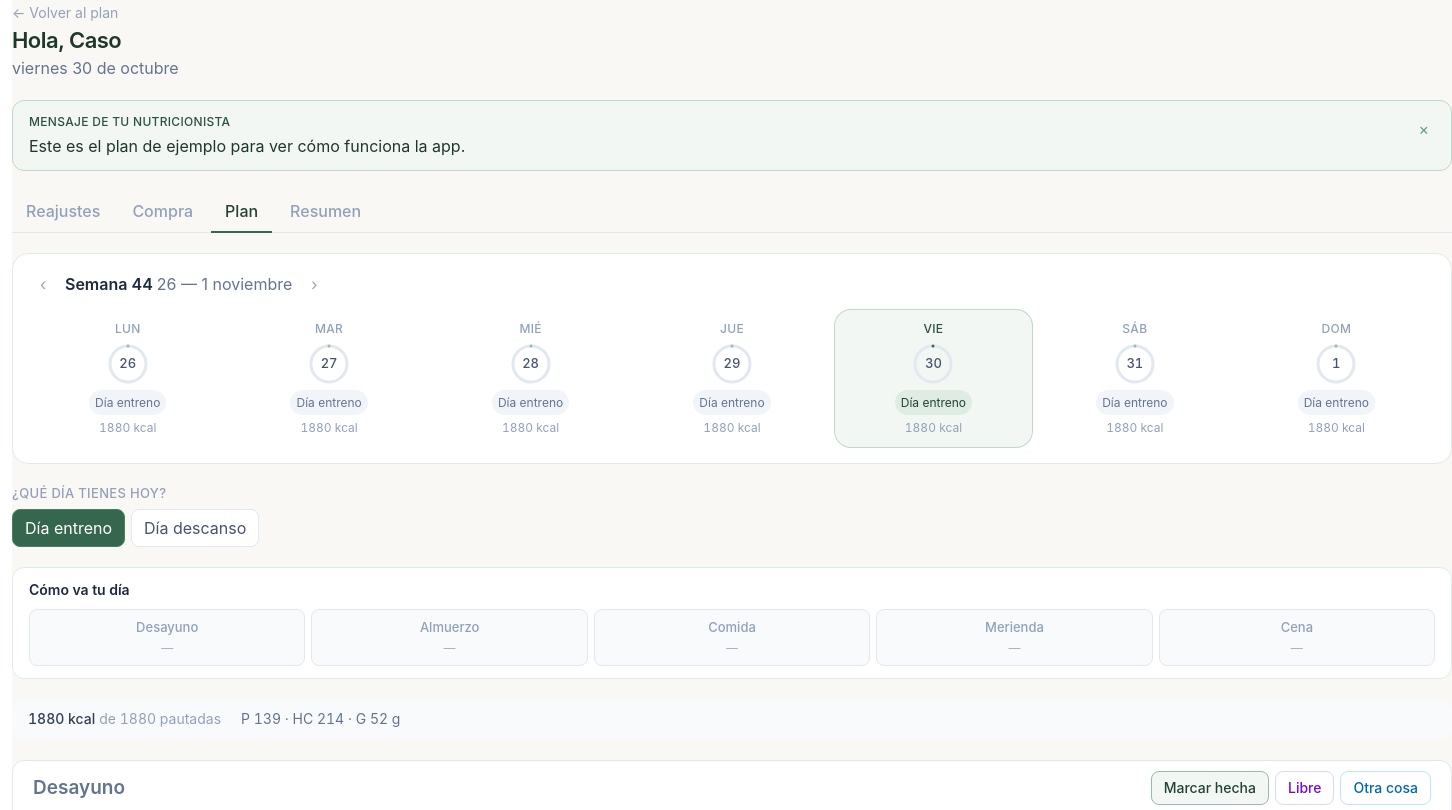
Test: Las cinco pestañas › en reajustes se deja puesta la semana
The width and height of the screenshot is (1452, 810).
What coordinates should you click on to do the following:
click the button "Reajustes"
I would click on:
 (63, 212)
Its box is [12, 191, 114, 233].
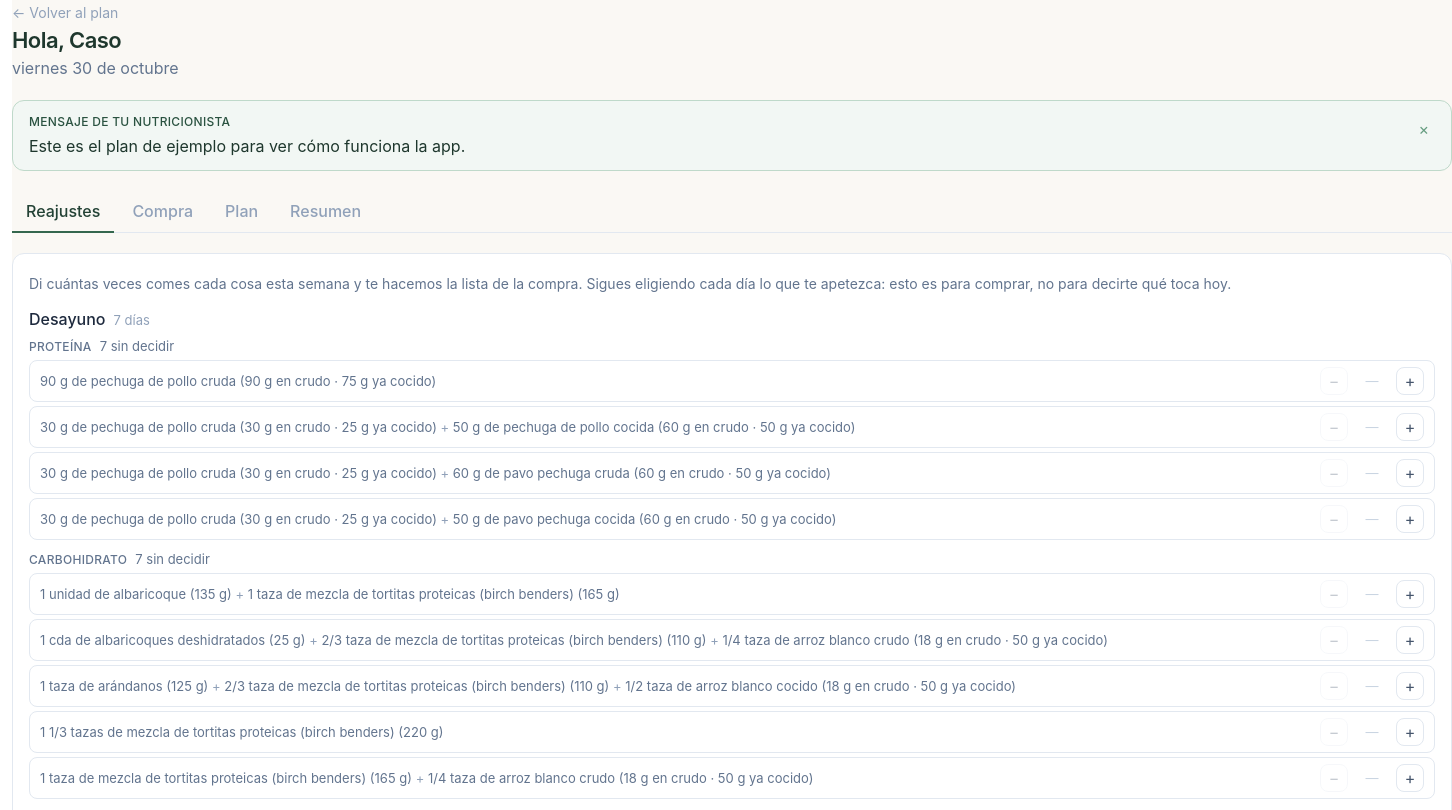
Now the text "Di cuántas veces comes" is shown, box [29, 275, 1231, 292]
